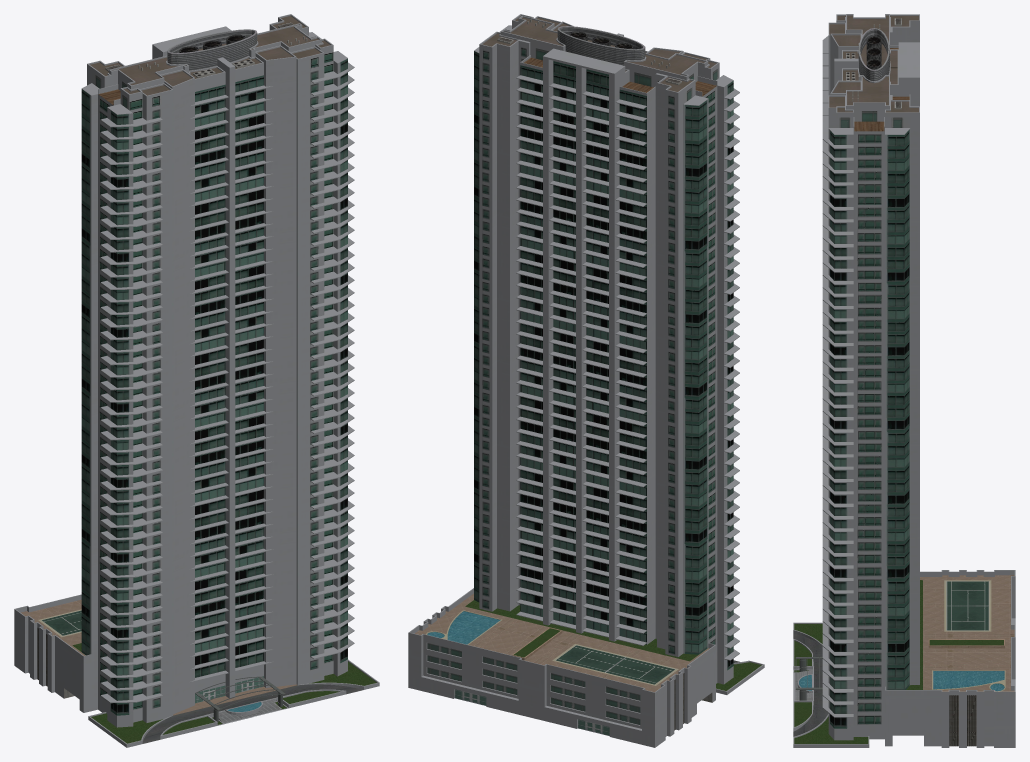
The model's file is penthouse-tower.glb.
3 views of the same model, side by side, from view 1: azimuth 30°, elevation 25°; view 2: azimuth 150°, elevation 25°; view 3: azimuth 270°, elevation 25° (orthographic). The views are drawn at different scales.
Visible parts, largest first — view 1: hirise8; view 2: hirise8; view 3: hirise8.
Boxes of the visible parts, box(x1,y1,x2,y2) form: hirise8: box(14, 14, 379, 747); hirise8: box(408, 14, 764, 747); hirise8: box(793, 14, 1015, 747).
Bounding box in the file's own units: 6665 × 16249 × 5130.
1 material, 1 textured.
